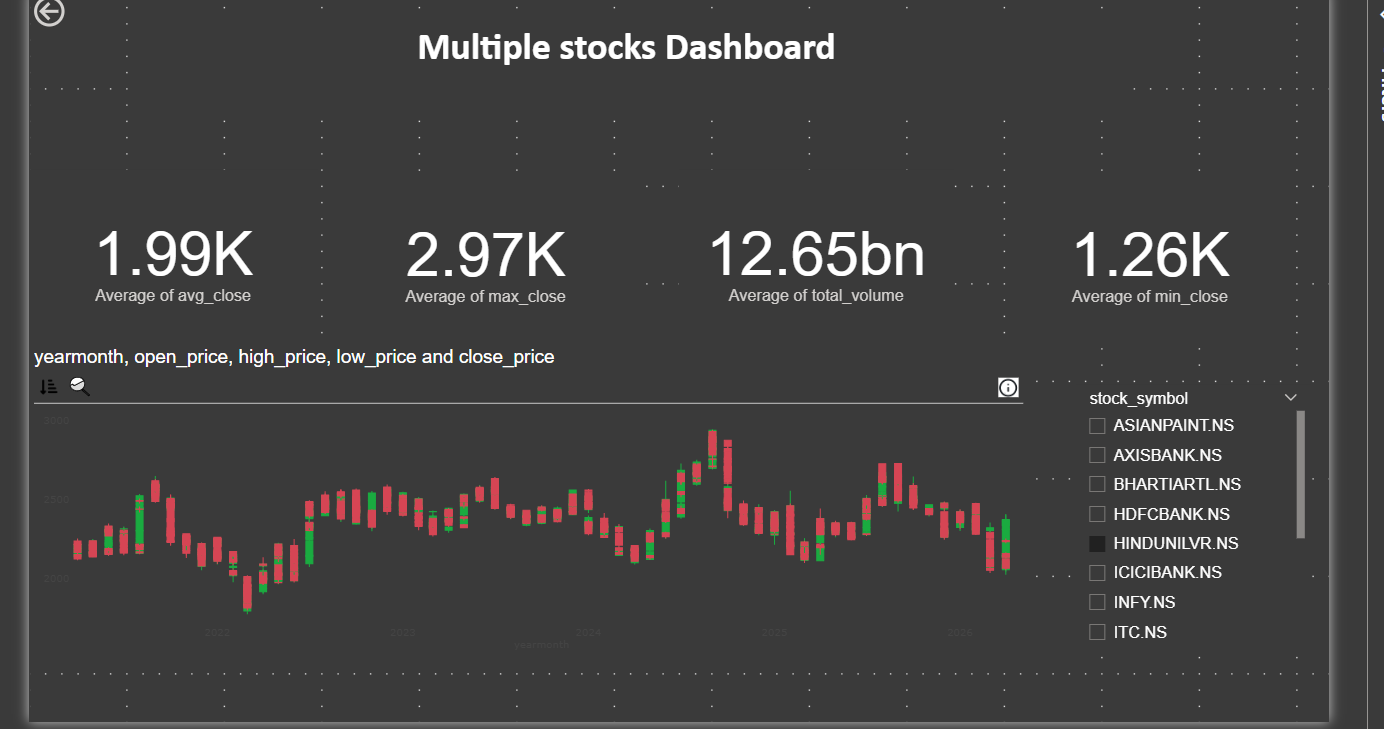

What the dashboard file says about the page in this screenshot:
{"tool":"powerbi","page":{"name":"page3","canvas":[1280,720],"ordinal":0},"visuals":[{"type":"candlestickD7180D8F77642DBFBF61A4FEEE09DDBD","fields":{"col_1":["multiple_stocks.open_price"],"col_2":["multiple_stocks.high_price"],"col_3":["multiple_stocks.low_price"],"col_4":["multiple_stocks.close_price"],"col_0":["multiple_stocks.yearmonth"]},"box":[0,349.5,984.6,312.6],"z":0},{"type":"actionButton","box":[0,0,100,40],"z":1000},{"type":"slicer","fields":{"Values":["multiple_stocks.stock_symbol"]},"box":[1031.4,387.7,230.2,264.6],"z":2000},{"type":"card","fields":{"Values":["Avg(stock_summary.total_volume)"]},"box":[640,177.2,270.8,173.5],"z":3000},{"type":"card","fields":{"Values":["Avg(stock_summary.avg_close)"]},"box":[0,176,284.3,173.5],"z":4000},{"type":"card","fields":{"Values":["Avg(stock_summary.max_close)"]},"box":[302.8,177.2,294.2,173.5],"z":5000},{"type":"card","fields":{"Values":["Avg(stock_summary.min_close)"]},"box":[967.4,177.2,274.5,184.6],"z":6000},{"type":"textbox","box":[100,27.2,977.2,88],"z":7000}]}

Visuals, with their boxes on the page's 1280x720 design canvas (x1, y1, x2, y2). These are canvas units, not pixel positions in the 1384x729 screenshot, which may show the page scaled, cropped or inside an application window:
candlestickD7180D8F77642DBFBF61A4FEEE09DDBD - multiple_stocks.open_price x multiple_stocks.high_price: [left=0, top=350, right=985, bottom=662]
actionButton: [left=0, top=0, right=100, bottom=40]
slicer - multiple_stocks.stock_symbol: [left=1031, top=388, right=1262, bottom=652]
card - Avg(stock_summary.total_volume): [left=640, top=177, right=911, bottom=351]
card - Avg(stock_summary.avg_close): [left=0, top=176, right=284, bottom=350]
card - Avg(stock_summary.max_close): [left=303, top=177, right=597, bottom=351]
card - Avg(stock_summary.min_close): [left=967, top=177, right=1242, bottom=362]
textbox: [left=100, top=27, right=1077, bottom=115]
